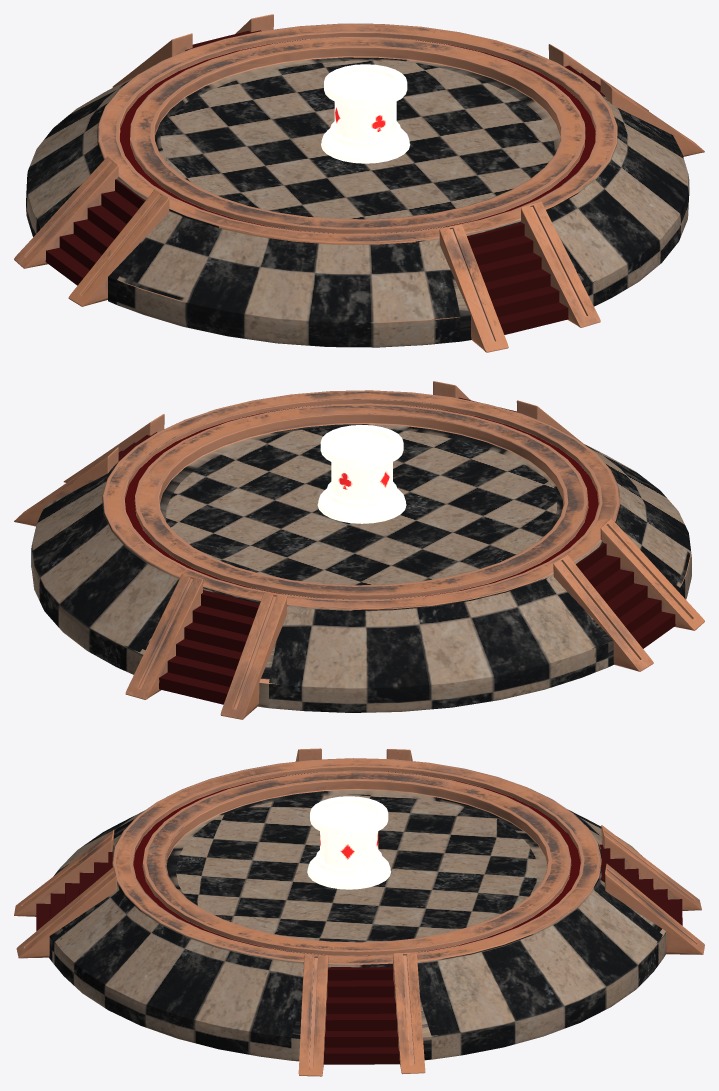
Rendered from Altar-Unity.fbx.
3 views of the same model, one above another, from view 1: azimuth 30°, elevation 25°; view 2: azimuth 150°, elevation 25°; view 3: azimuth 270°, elevation 25° (orthographic). The views are drawn at different scales.
Visible parts, largest first — view 1: pCylinder12, pCylinder12.003, pCylinder12.001, pCube308, group110_pCube300, pCylinder13, pCylinder12.002; view 2: pCylinder12, pCylinder12.003, pCylinder12.001, pCube308, group110_pCube300, pCylinder13, pCylinder12.002; view 3: pCylinder12, pCylinder12.003, pCylinder12.001, pCube308, group110_pCube300, pCylinder13, pCylinder12.002.
Part boxes in pixels (left/top/right/bottom): pCylinder12: left=26, top=77, right=689, bottom=347; pCylinder12.003: left=155, top=57, right=560, bottom=219; pCylinder12.001: left=97, top=23, right=617, bottom=343; pCube308: left=14, top=14, right=704, bottom=352; group110_pCube300: left=45, top=30, right=605, bottom=334; pCylinder13: left=321, top=64, right=410, bottom=163; pCylinder12.002: left=120, top=39, right=595, bottom=233; pCylinder12: left=31, top=443, right=691, bottom=712; pCylinder12.003: left=160, top=424, right=563, bottom=585; pCylinder12.001: left=102, top=390, right=690, bottom=684; pCube308: left=14, top=381, right=704, bottom=719; group110_pCube300: left=115, top=397, right=675, bottom=704; pCylinder13: left=317, top=425, right=406, bottom=523; pCylinder12.002: left=125, top=405, right=598, bottom=599; pCylinder12: left=49, top=810, right=666, bottom=1061; pCylinder12.003: left=166, top=790, right=547, bottom=942; pCylinder12.001: left=112, top=758, right=601, bottom=1060; pCube308: left=14, top=748, right=704, bottom=1076; group110_pCube300: left=36, top=844, right=682, bottom=1064; pCylinder13: left=307, top=796, right=390, bottom=889; pCylinder12.002: left=133, top=771, right=580, bottom=955.
Size of the model in its own units: 14.5 by 2.82 by 14.62.
Materials: 7 (7 with a texture image).
